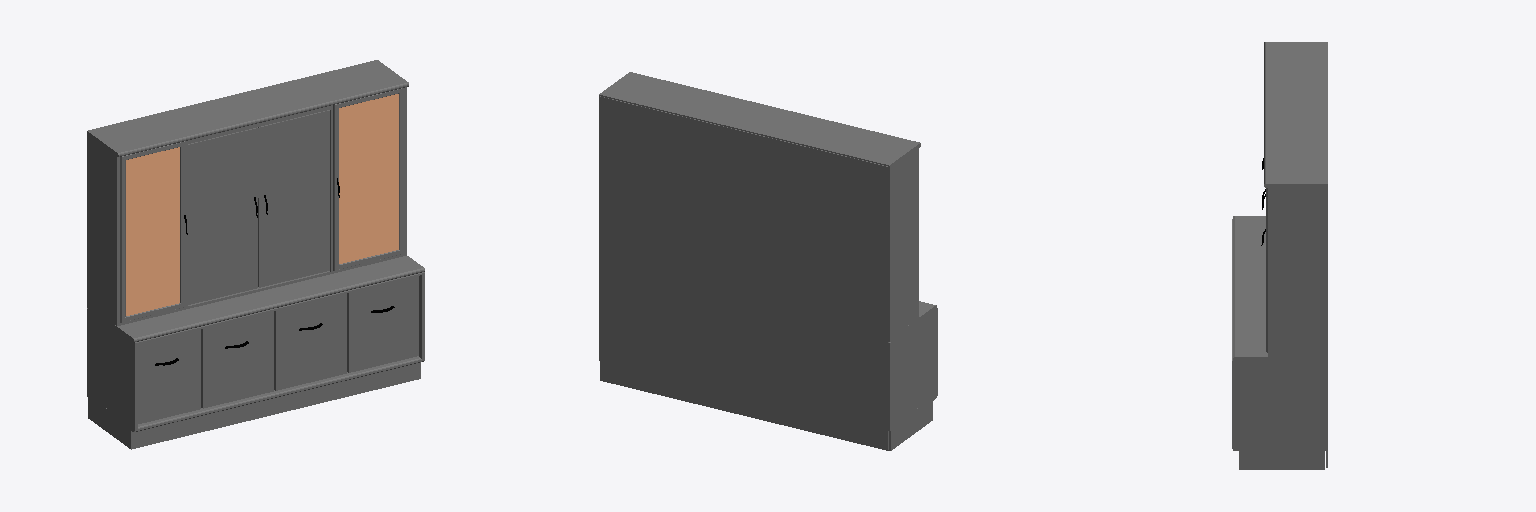
File: mobile_sala.obj
3 views of the same model, side by side, from view 1: azimuth 30°, elevation 25°; view 2: azimuth 150°, elevation 25°; view 3: azimuth 270°, elevation 25° (orthographic).
Parts seen in each view (by area): view 1: blackcabin_1_1, blackcabin6460_3_3; view 2: blackcabin_1_1; view 3: blackcabin_1_1.
Part boxes in pixels (bbox=[...]): blackcabin_1_1: bbox=[87, 60, 424, 449]; blackcabin6460_3_3: bbox=[126, 94, 398, 315]; blackcabin_1_1: bbox=[599, 72, 937, 450]; blackcabin_1_1: bbox=[1232, 42, 1327, 469].
Bounding box in the file's own units: 223 × 211 × 64.5.